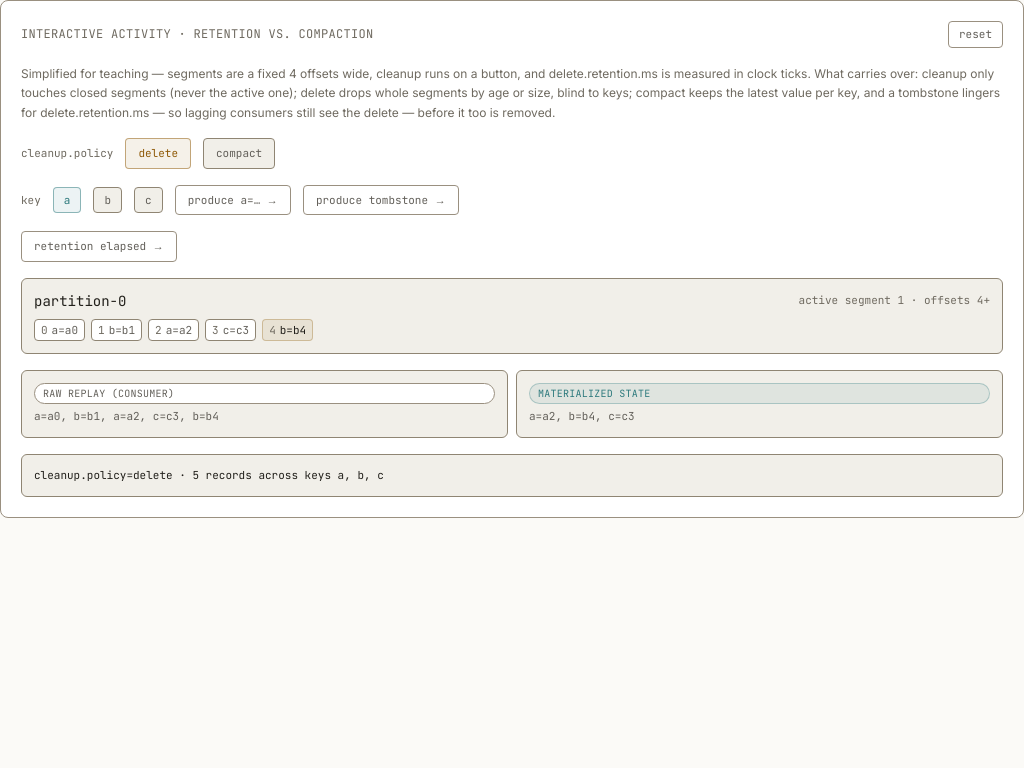
Test: RetentionCompactionDemo › compaction leaves the active segment alone even when it holds superseded values
Click the button "compact" at (239, 153), box [203,138,275,168]
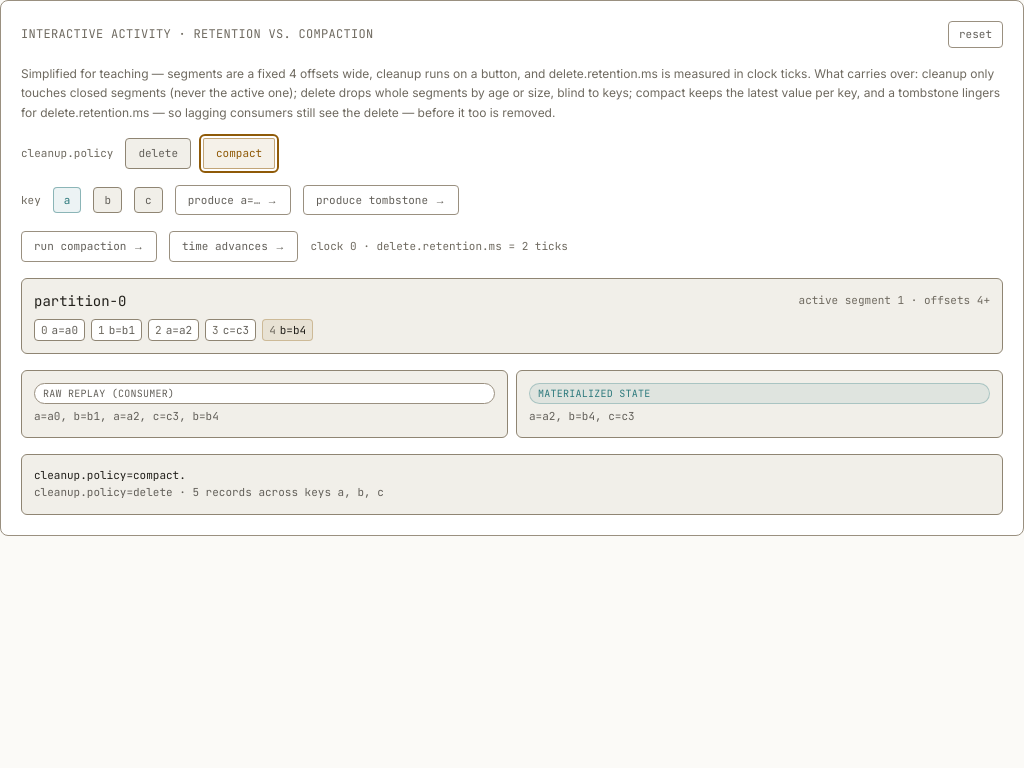
Click the button "a" at (67, 200), box [53,186,81,213]
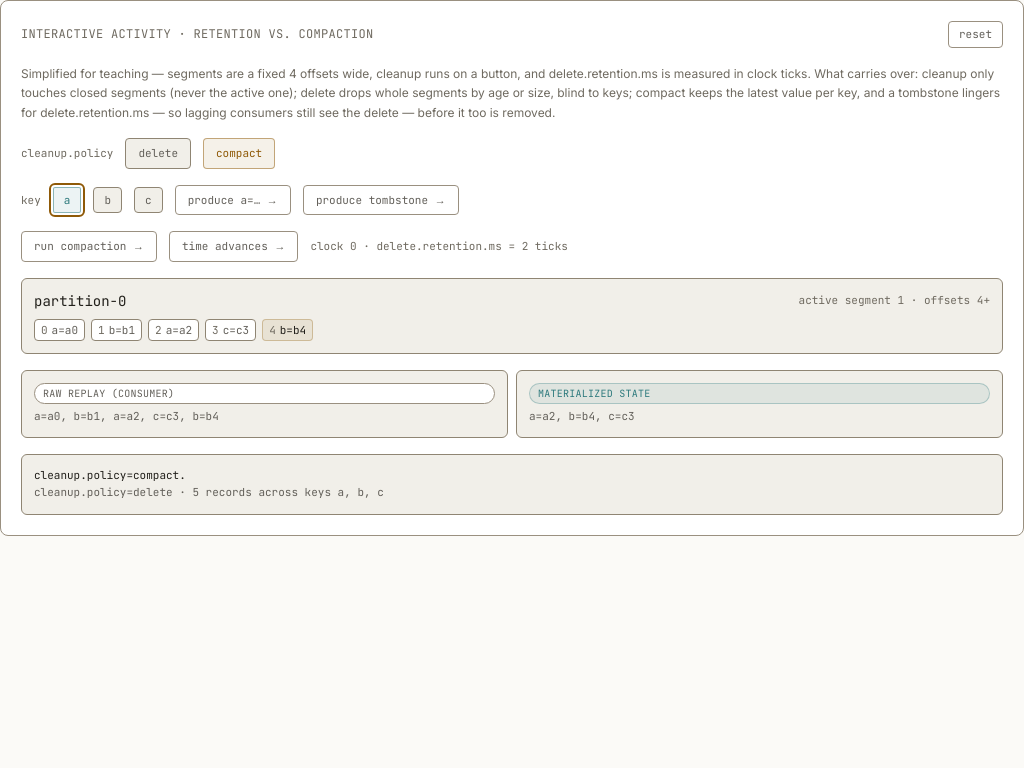
Click the button "produce a=… →" at (233, 200), box [175,184,291,215]
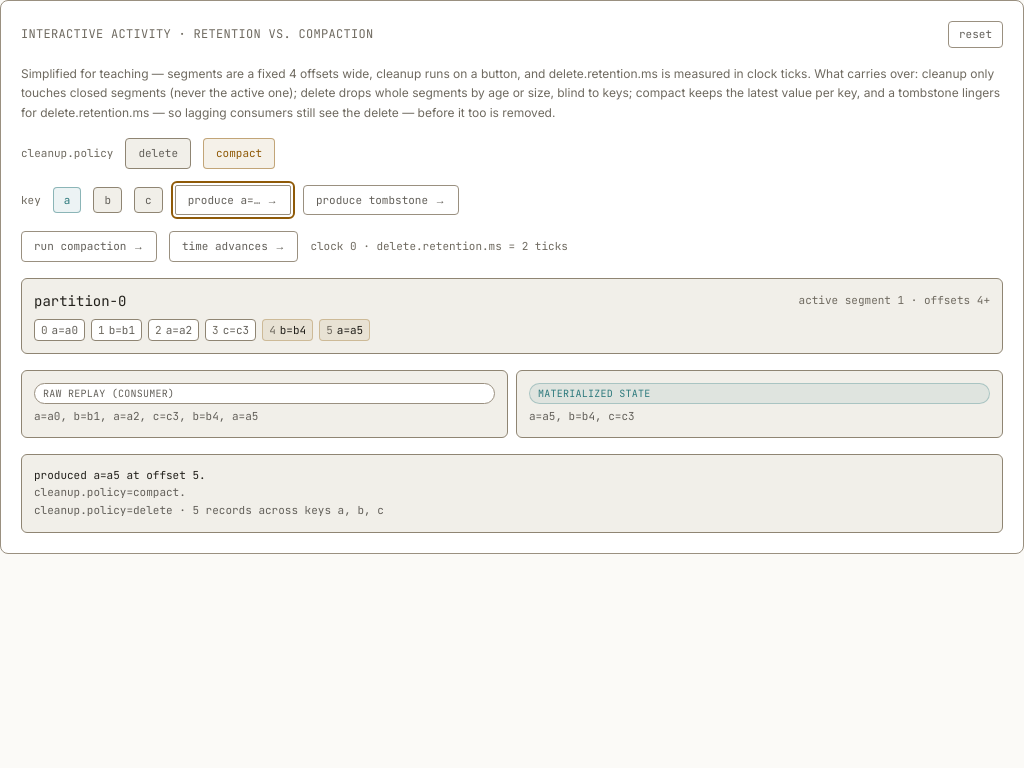
Click the button "produce a=… →" at (233, 200), box [175,184,291,215]
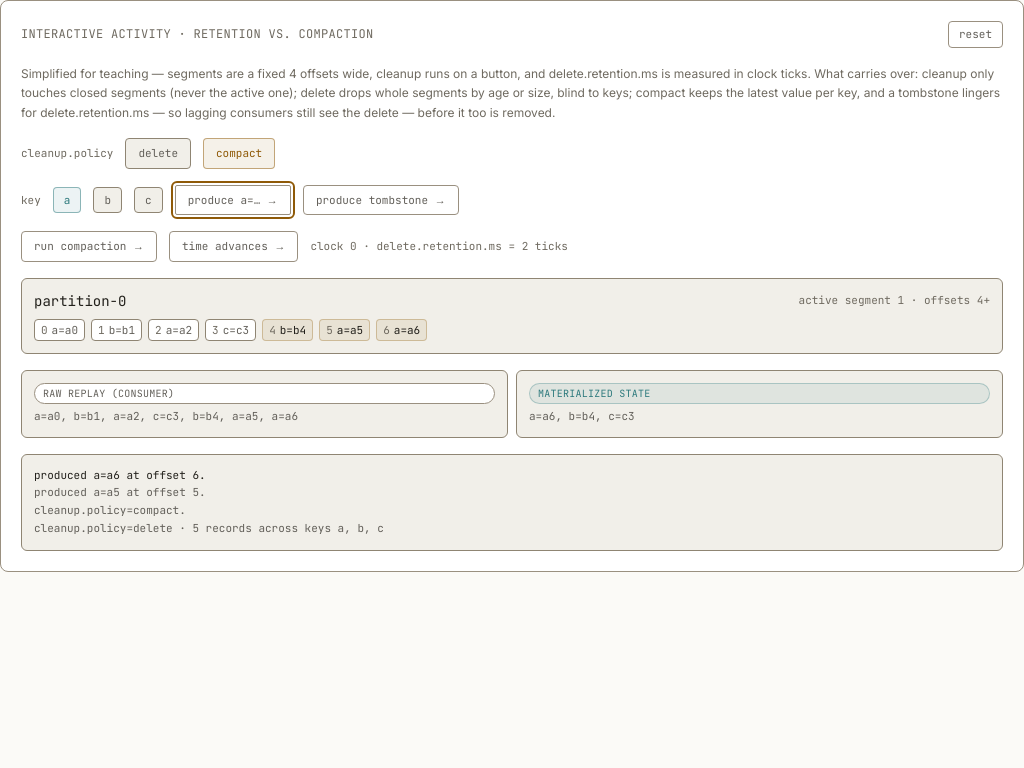
Click the button "run compaction →" at (89, 246), box [21,231,157,262]
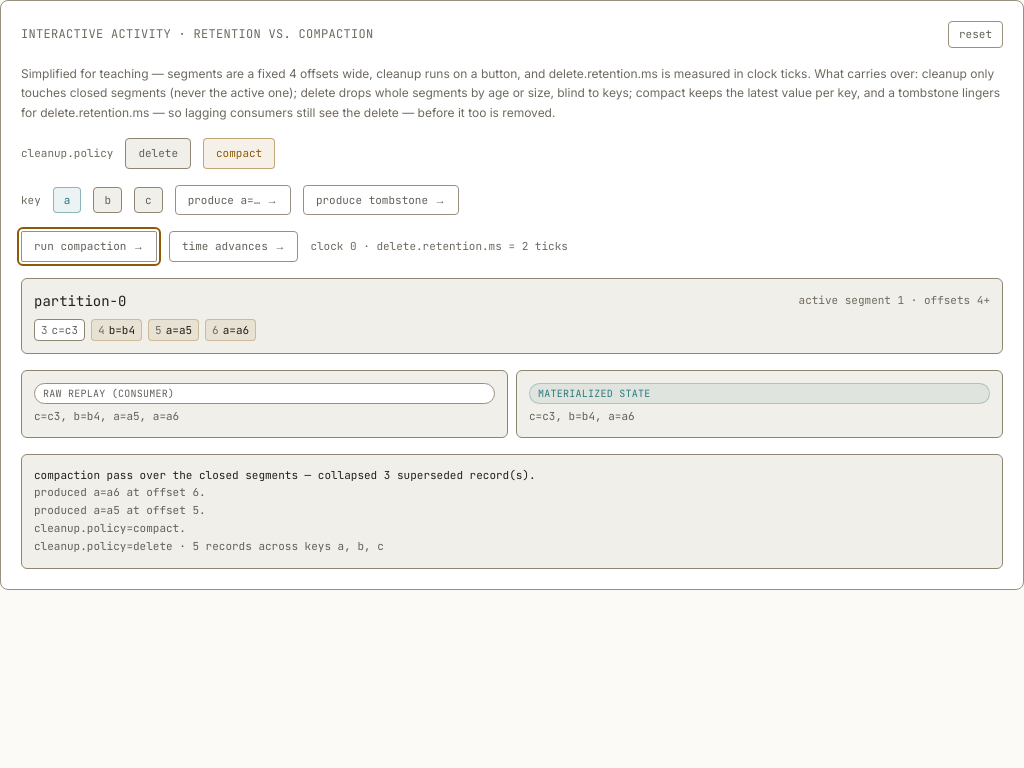
Expected: the element with test id "entry-5" reads "5 a=a5", [148,318,199,341]
Expected: the element with test id "entry-6" reads "6 a=a6", [205,318,256,341]
Expected: the element with test id "entry-2" is gone
